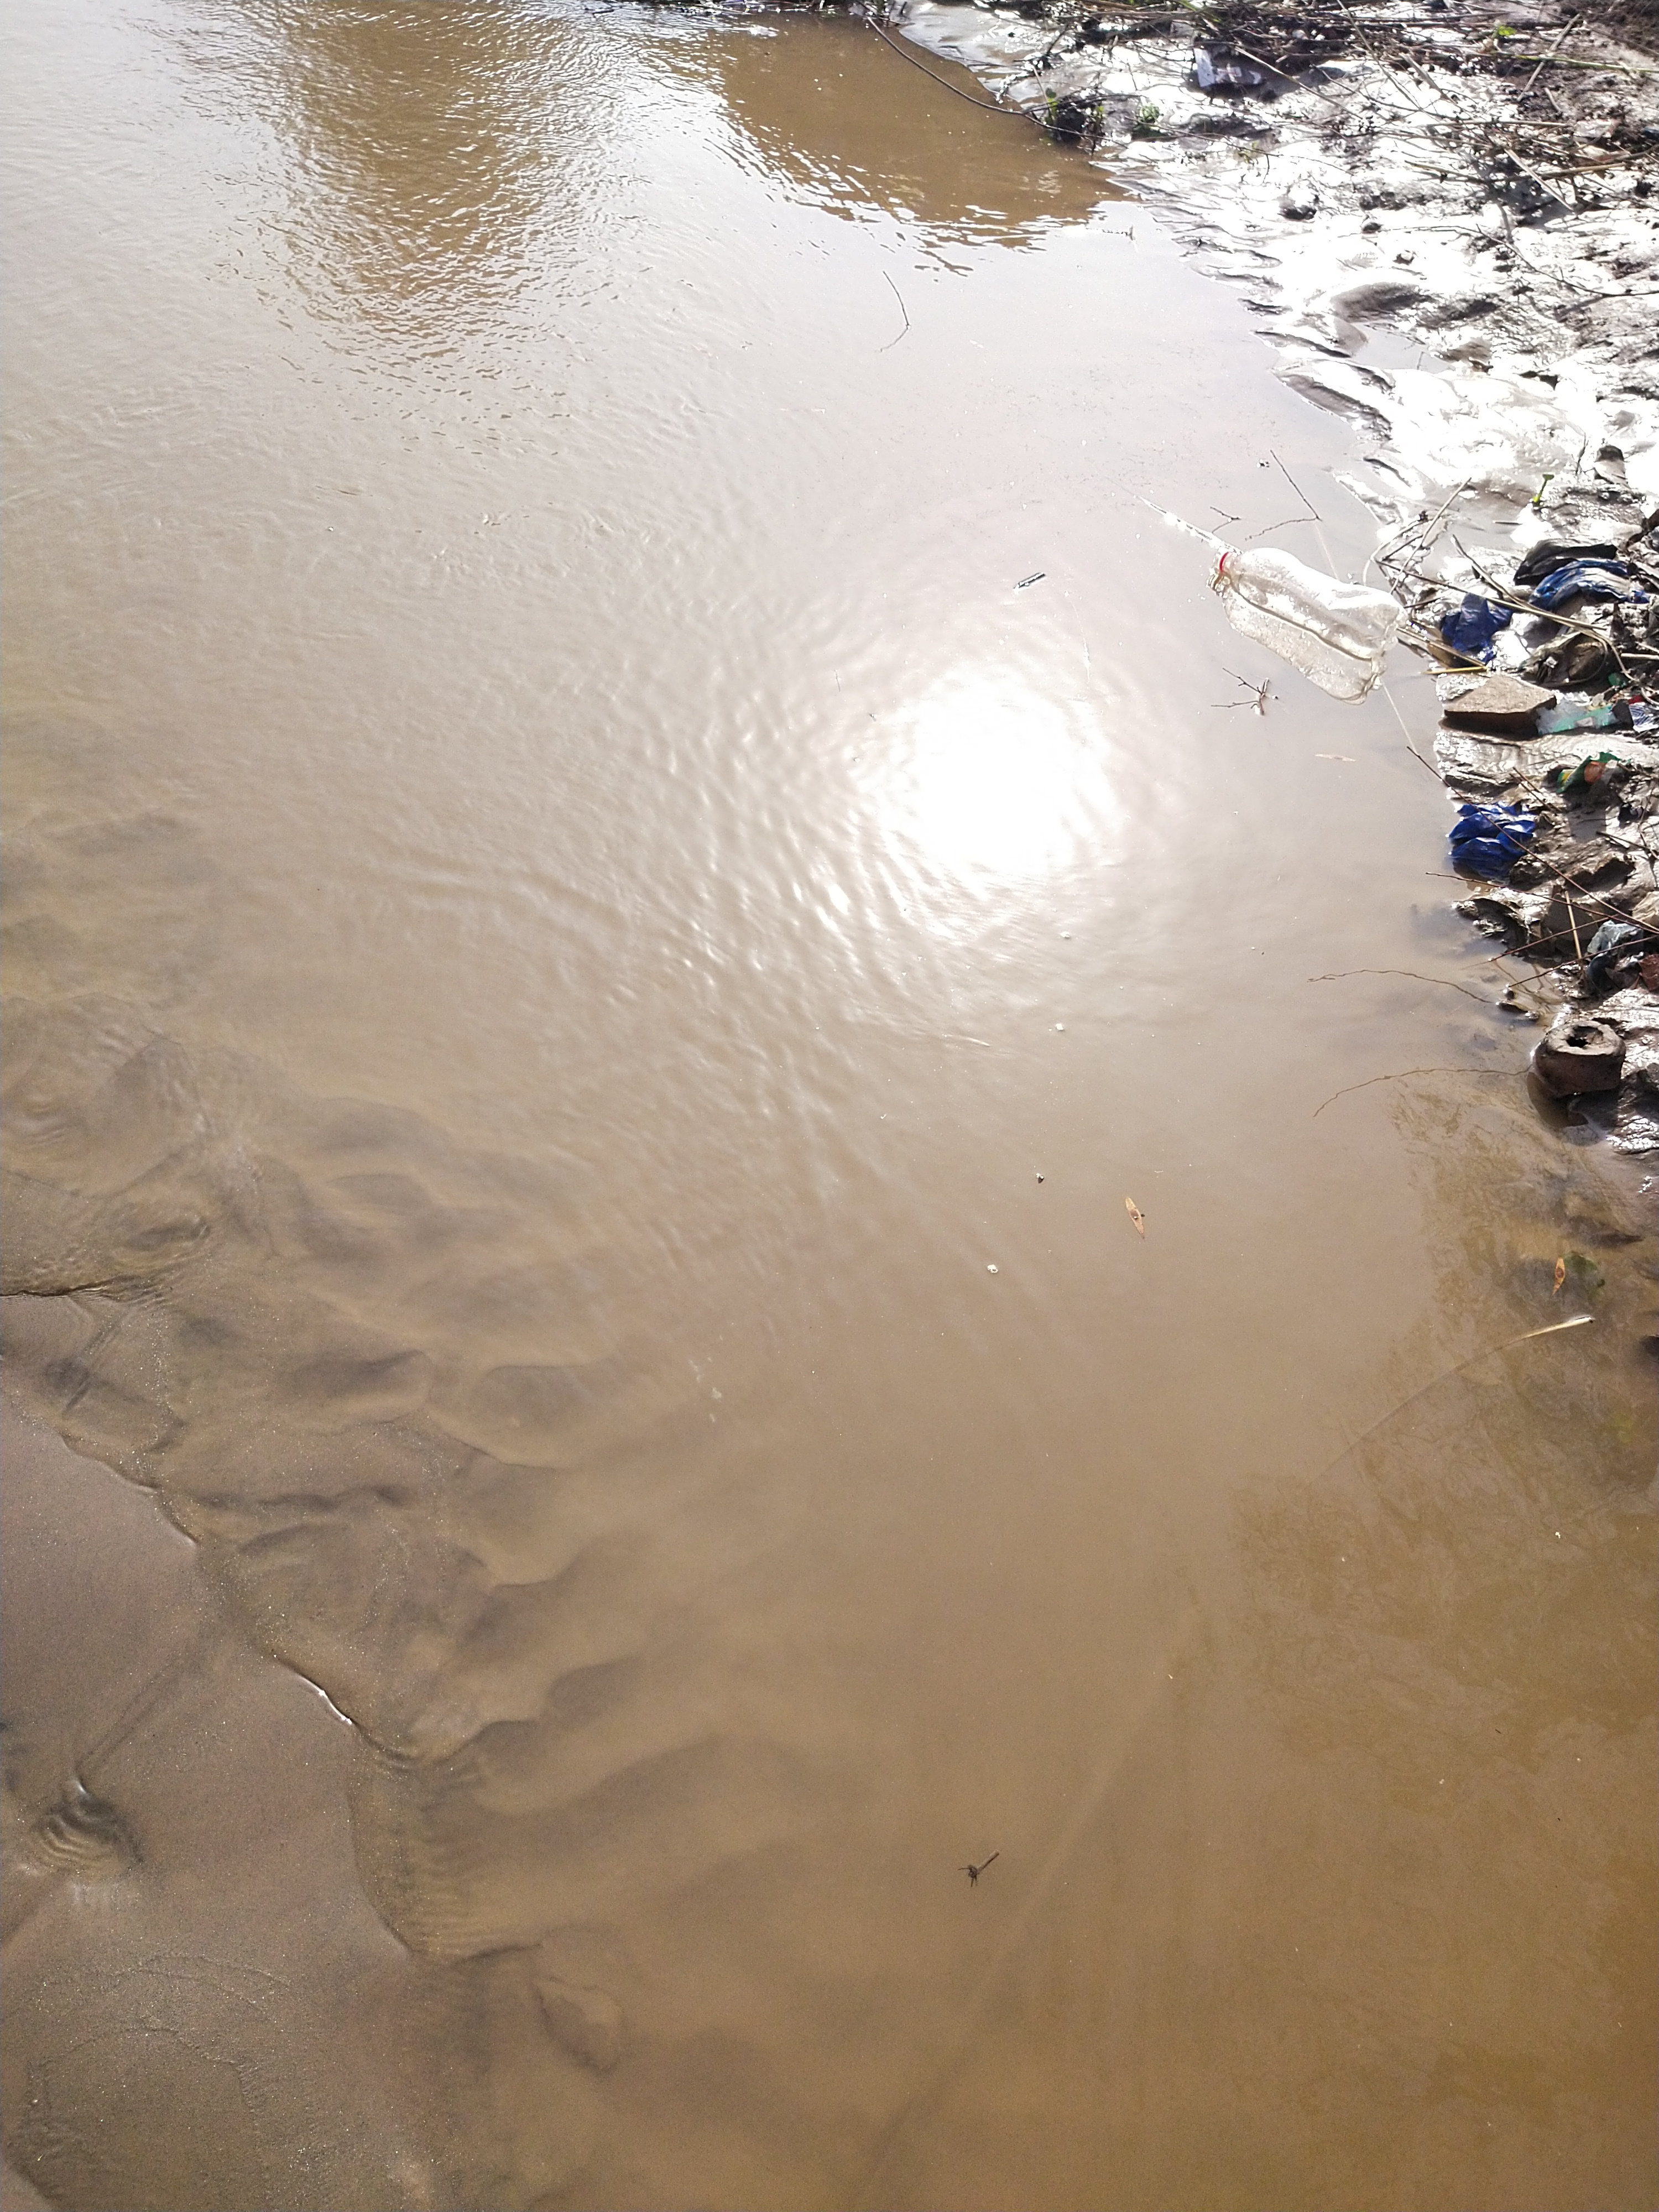Plastic Bottle: (1215, 547, 1408, 660)
